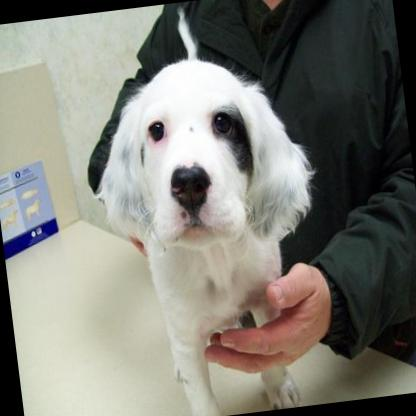English_setter: (77, 35, 343, 416)
